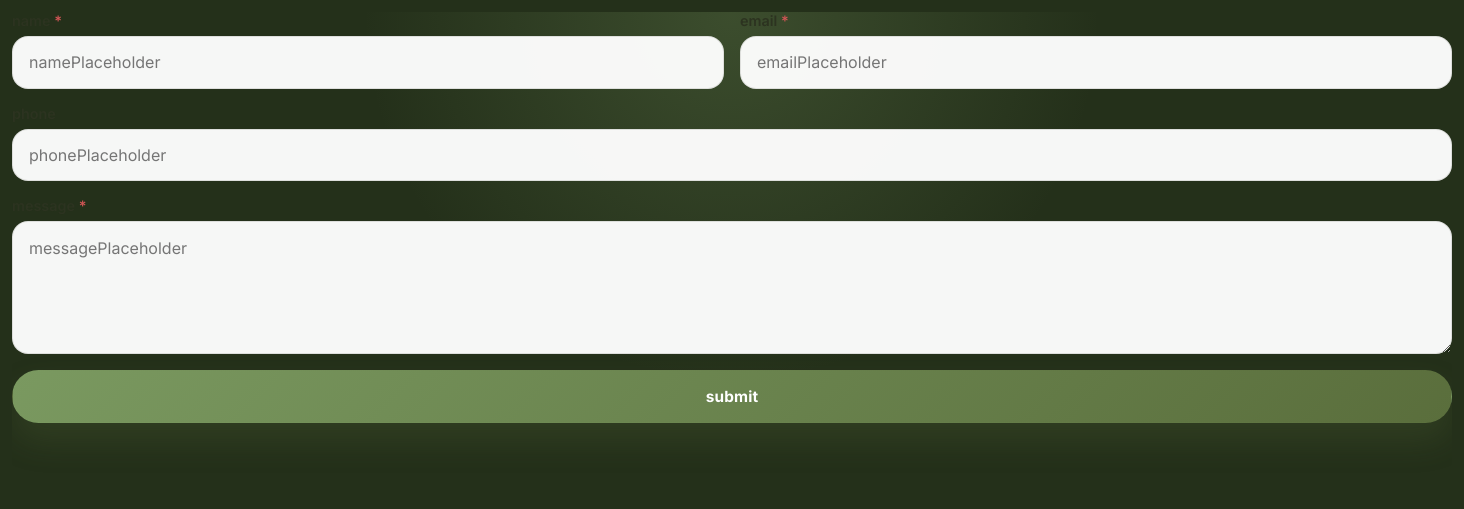
it: ContactForm › shows success message after successful submission
The width and height of the screenshot is (1464, 509).
Type "Jane Doe" into the field labelled "name *" at (368,62), box [12,36,724,89]
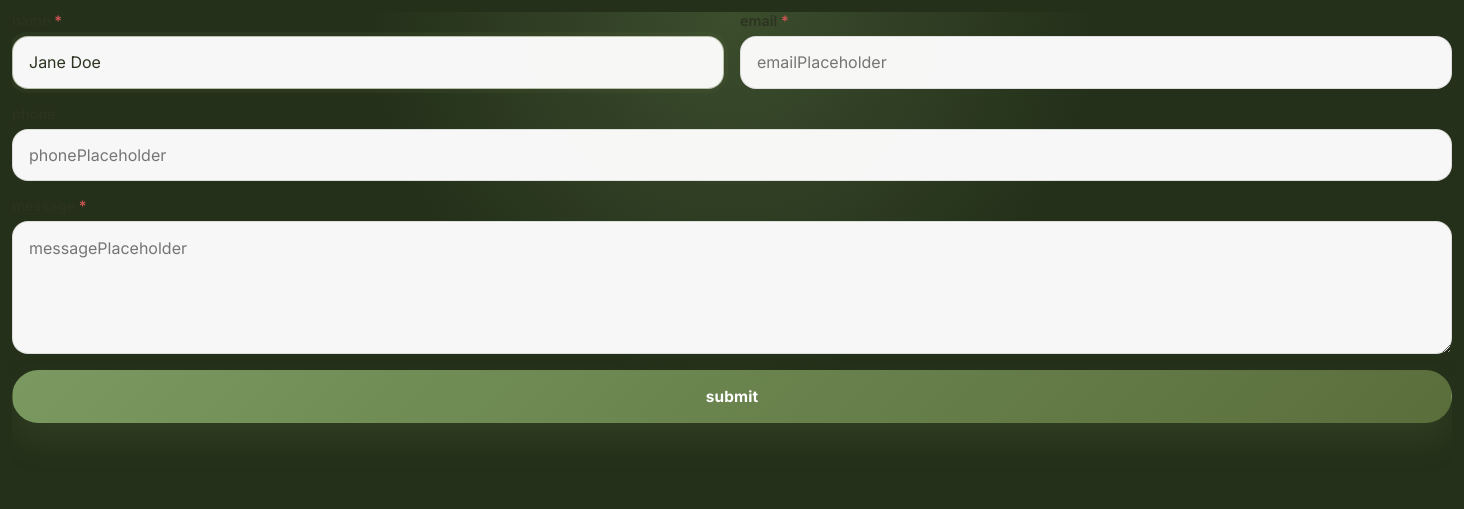
Type "jane@example.com" into the field labelled "email *" at (1096,62), box [740,36,1452,89]
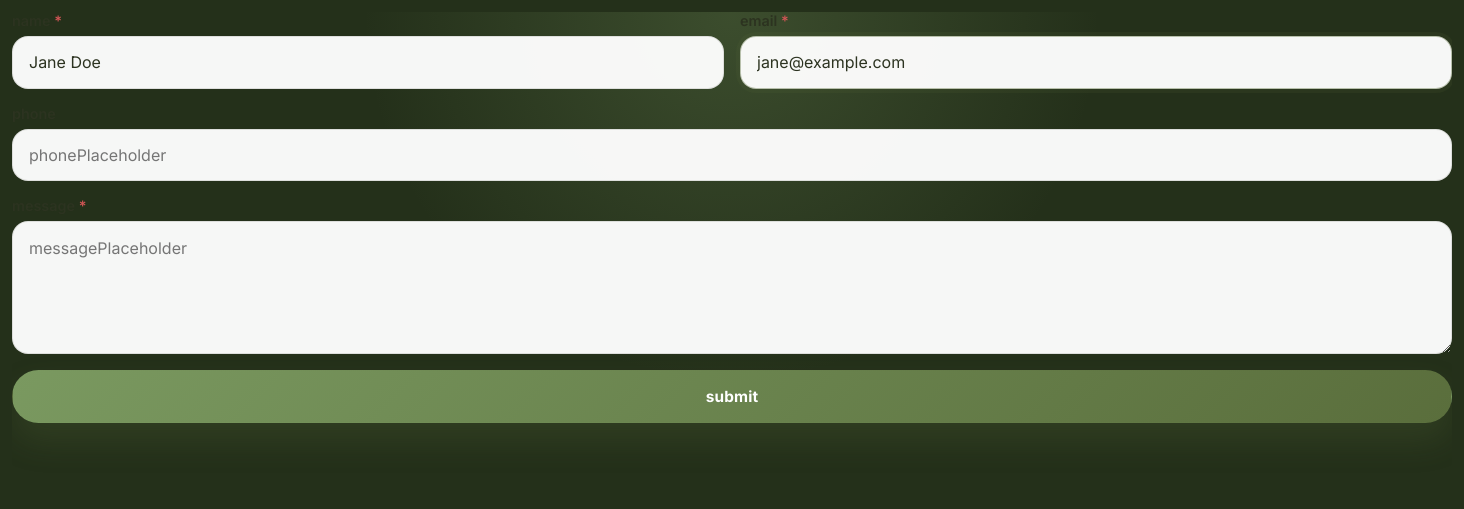
Type "Hello!" into the text box labelled "message *" at (732,288), box [12,221,1452,354]
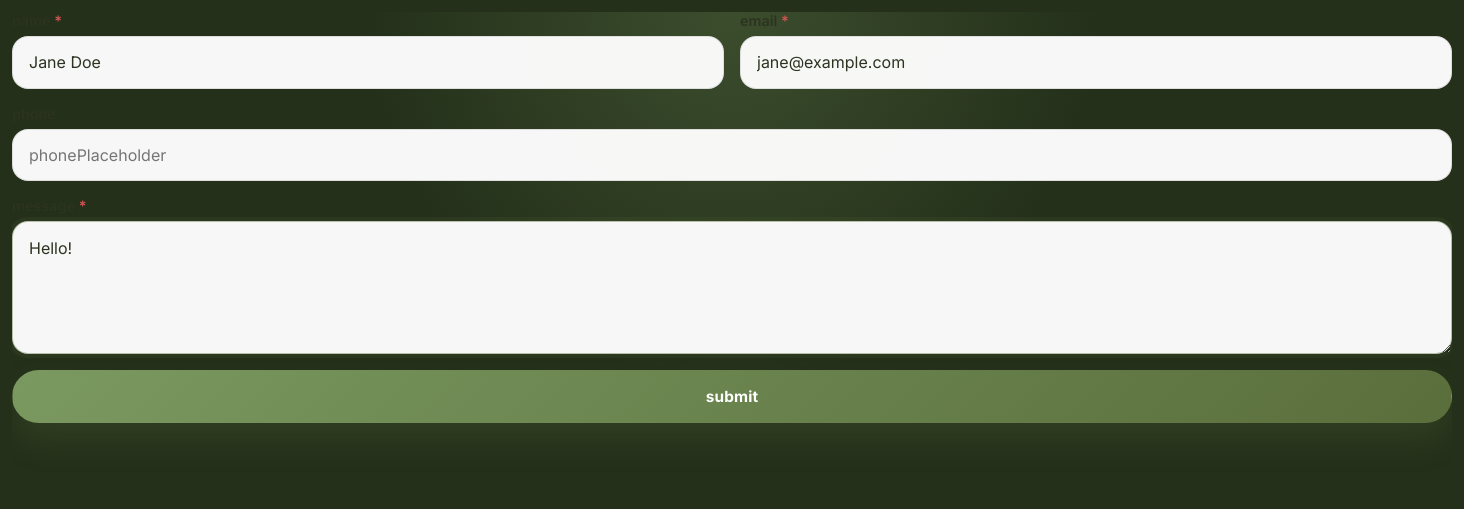
Click the button "submit" at (732,396), box [12,370,1452,423]
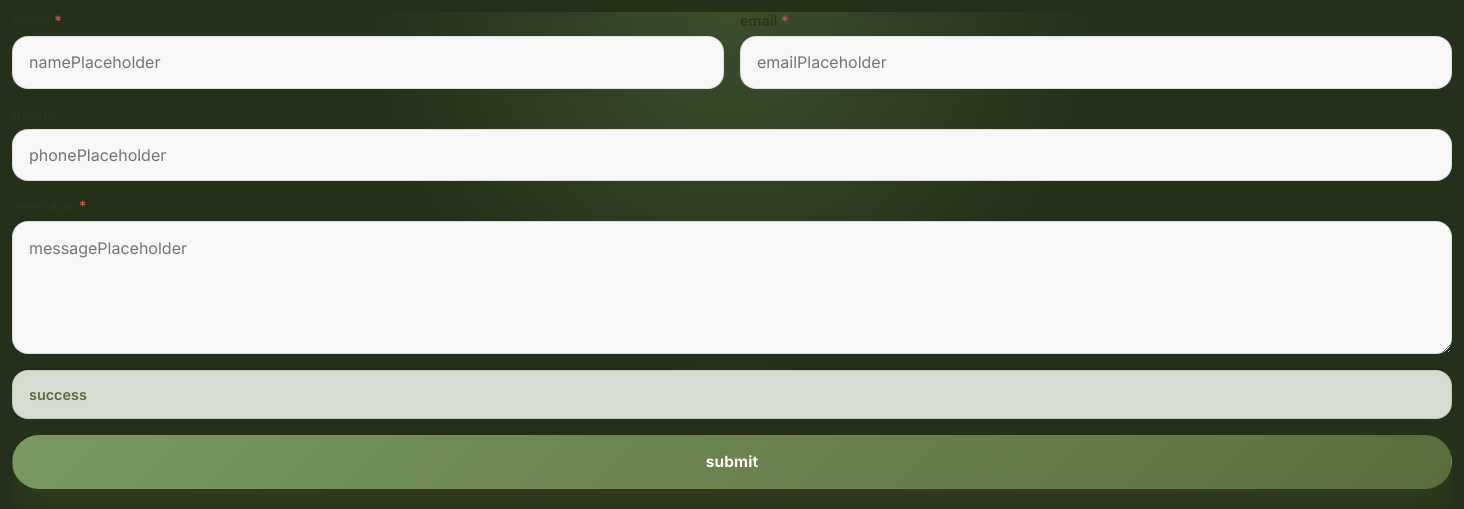
Expected: the text "success" is shown, [12,370,1452,419]
